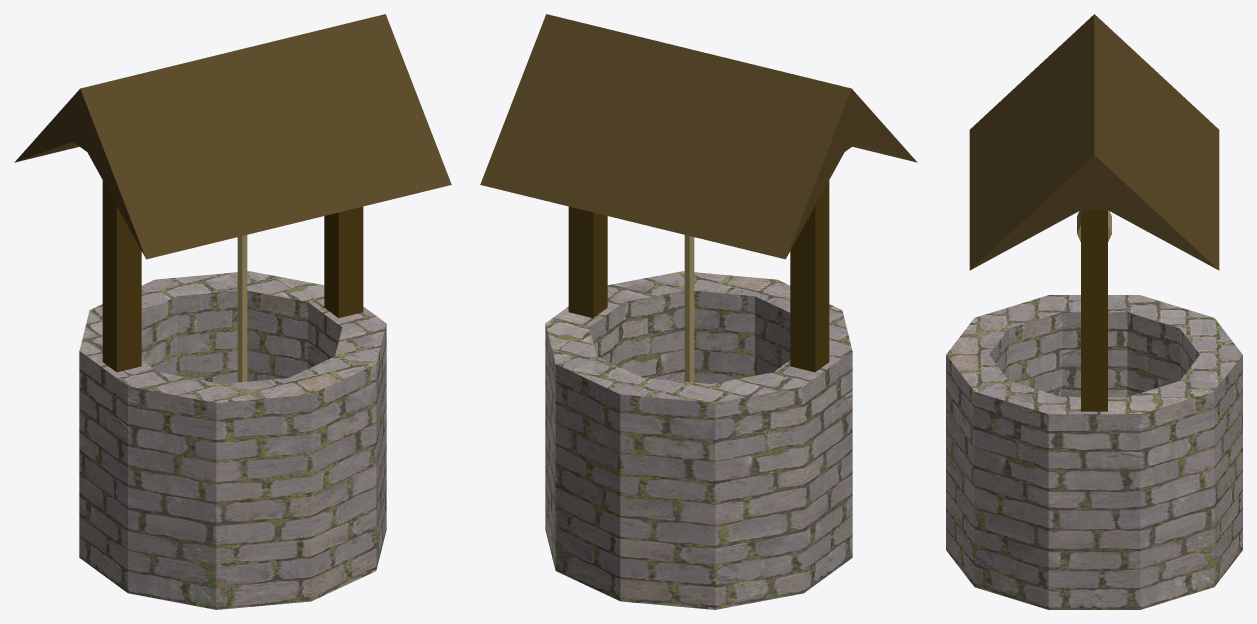
Rendered from Waterwell_Fixed_Hopefully_01.fbx.
3 views of the same model, side by side, from view 1: azimuth 30°, elevation 25°; view 2: azimuth 150°, elevation 25°; view 3: azimuth 270°, elevation 25° (orthographic). The views are drawn at different scales.
Parts seen in each view (by area): view 1: pCylinder6, pCylinder7, pCylinder8, pCylinder10; view 2: pCylinder6, pCylinder7, pCylinder8, pCylinder10; view 3: pCylinder6, pCylinder7, pCylinder8.
Boxes of the visible parts, bbox=[...] form: pCylinder6: bbox=[79, 271, 386, 609]; pCylinder7: bbox=[14, 14, 451, 259]; pCylinder8: bbox=[102, 180, 363, 372]; pCylinder10: bbox=[237, 235, 247, 382]; pCylinder6: bbox=[545, 271, 852, 609]; pCylinder7: bbox=[480, 14, 917, 259]; pCylinder8: bbox=[568, 180, 829, 372]; pCylinder10: bbox=[684, 235, 694, 382]; pCylinder6: bbox=[946, 295, 1242, 609]; pCylinder7: bbox=[969, 14, 1219, 270]; pCylinder8: bbox=[1081, 210, 1107, 411].
Bounding box in the file's own units: 247 × 381 × 220.
